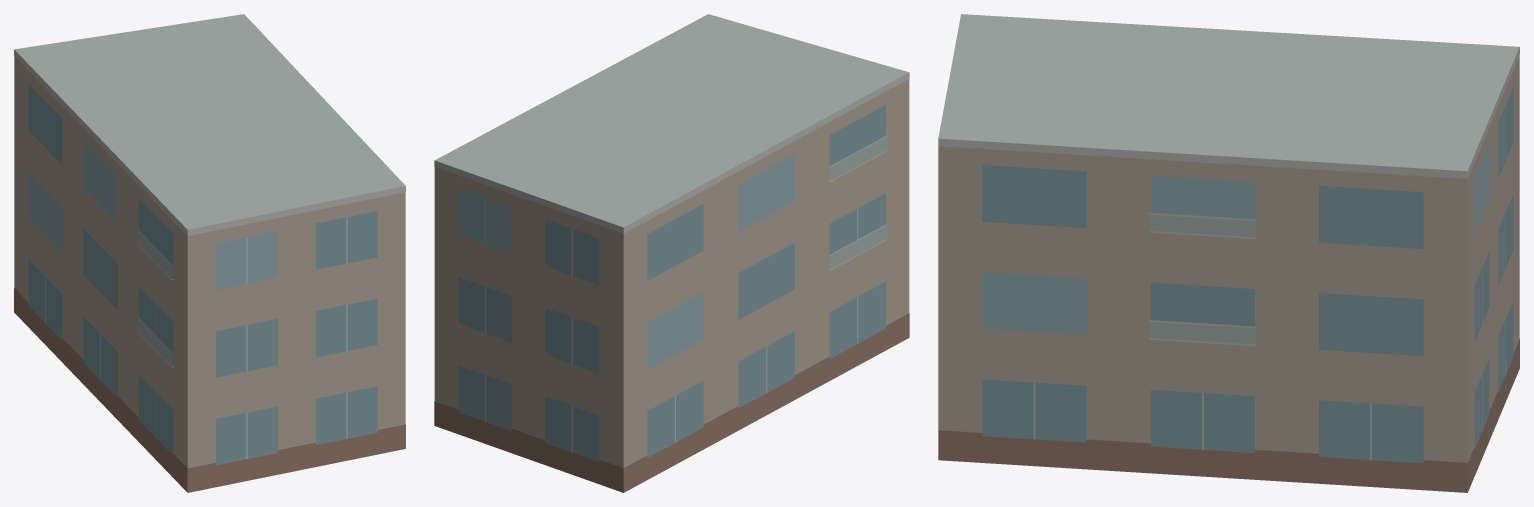
The model's file is survey-upis-32675572.glb.
3 renders of one model, left to right at view 1: azimuth 30°, elevation 25°; view 2: azimuth 150°, elevation 25°; view 3: azimuth 270°, elevation 25°, orthographic. The views are drawn at different scales.
Visible parts, largest first — view 1: survey-upis-32675572.tmp; view 2: survey-upis-32675572.tmp; view 3: survey-upis-32675572.tmp.
Part boxes in pixels (x1,y1,x2,y2): survey-upis-32675572.tmp: (14, 14, 405, 492); survey-upis-32675572.tmp: (434, 14, 909, 492); survey-upis-32675572.tmp: (938, 14, 1519, 492).
Bounding box in the file's own units: 10.71 × 10.2 × 16.73.
